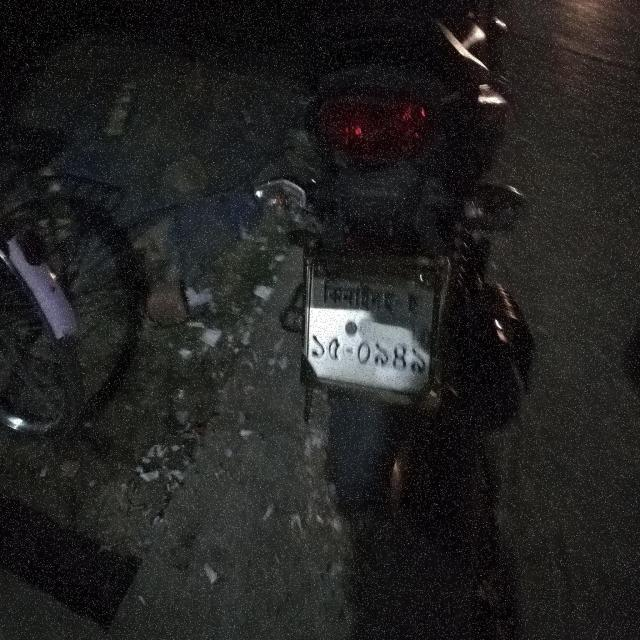numberplate: (300, 246, 447, 405)
